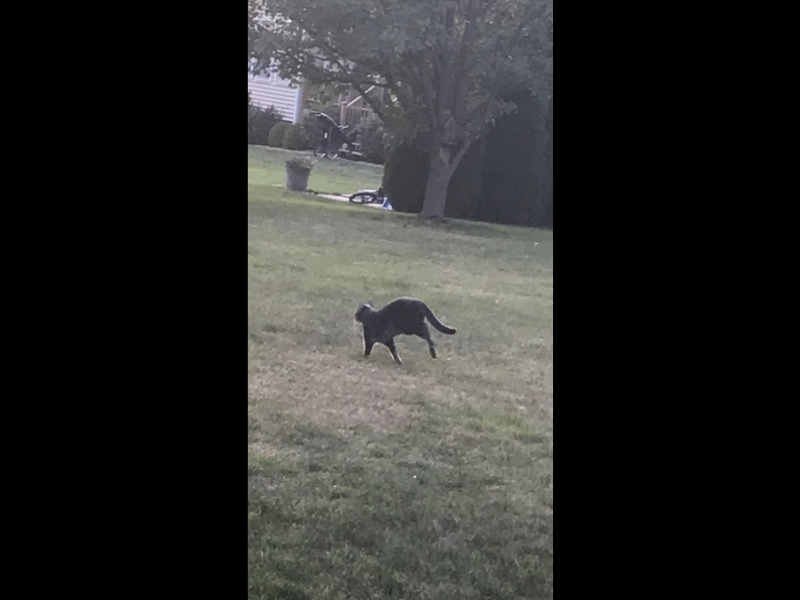cat: (353, 299, 462, 370)
